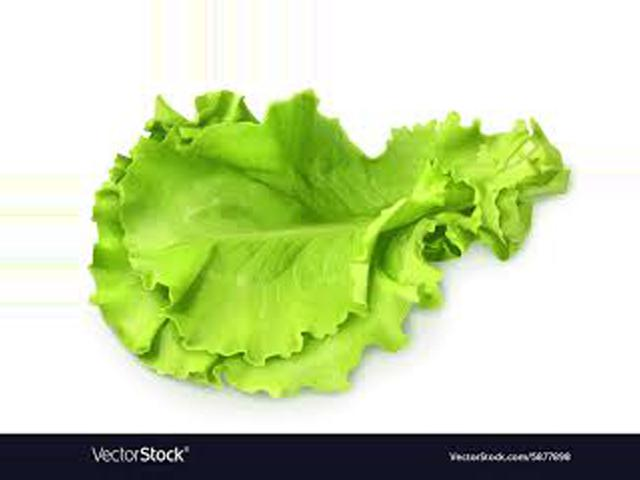lettuce: (385, 112, 547, 480)
